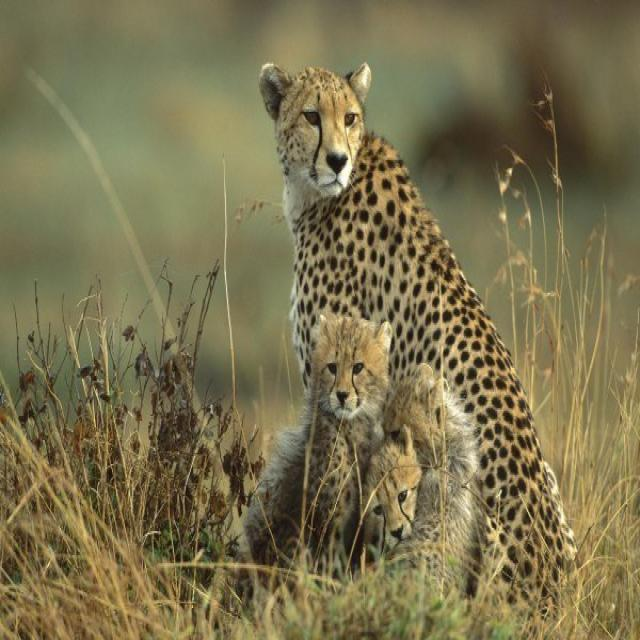Carnivorous: (259, 64, 577, 592), (246, 317, 390, 571), (363, 426, 422, 555)
